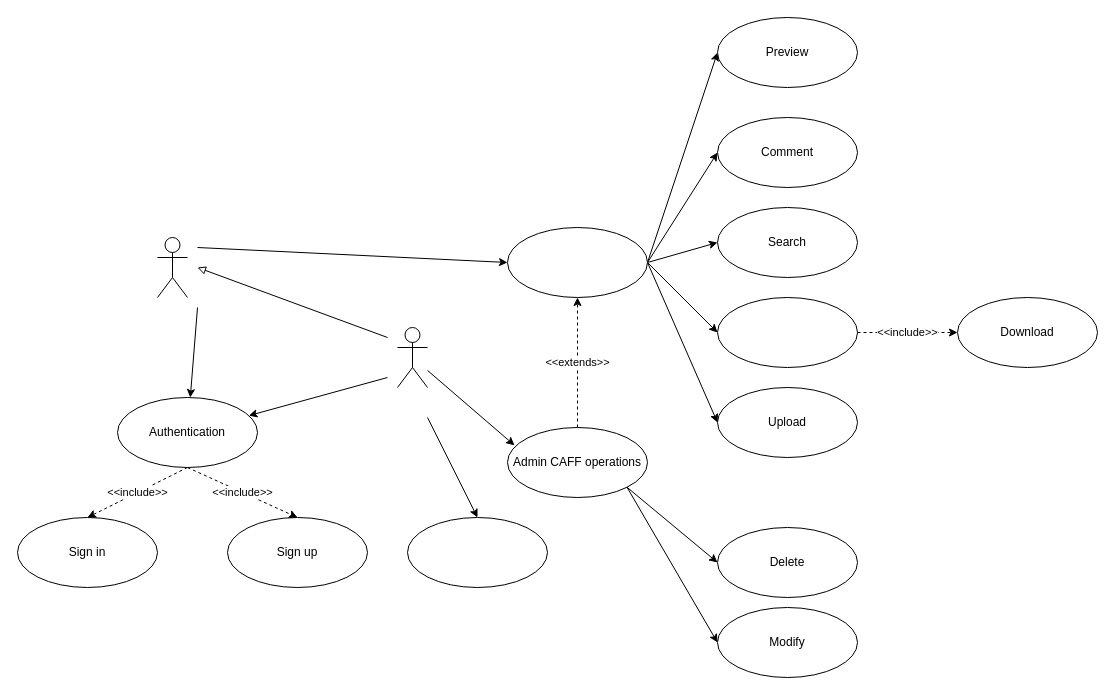
Some shapes in this 1115 by 695 pixel diagram are drawn without their labels. The shapes that lost their labels are listed below. From the top down, each one's box as (x1, y1, x2, y2) in pixels, then its label:
(156, 236, 188, 298): User
(506, 226, 648, 298): User CAFF operations
(716, 296, 858, 368): Purchase
(396, 326, 428, 388): Admin
(406, 516, 548, 588): Delete user
